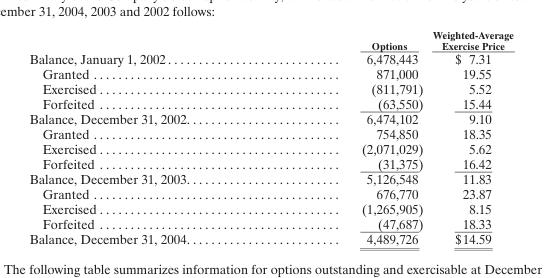table: (28, 28, 512, 246)
table column: (28, 28, 274, 246), (274, 28, 427, 246), (427, 28, 512, 246)
table column header: (28, 28, 512, 50)
table row: (28, 28, 512, 50), (28, 50, 512, 66), (28, 110, 512, 126), (28, 170, 512, 186), (28, 215, 512, 231), (28, 80, 512, 95), (28, 95, 512, 110), (28, 140, 512, 155), (28, 155, 512, 170), (28, 186, 512, 201), (28, 231, 512, 246), (28, 66, 512, 80), (28, 126, 512, 140), (28, 201, 512, 215)
